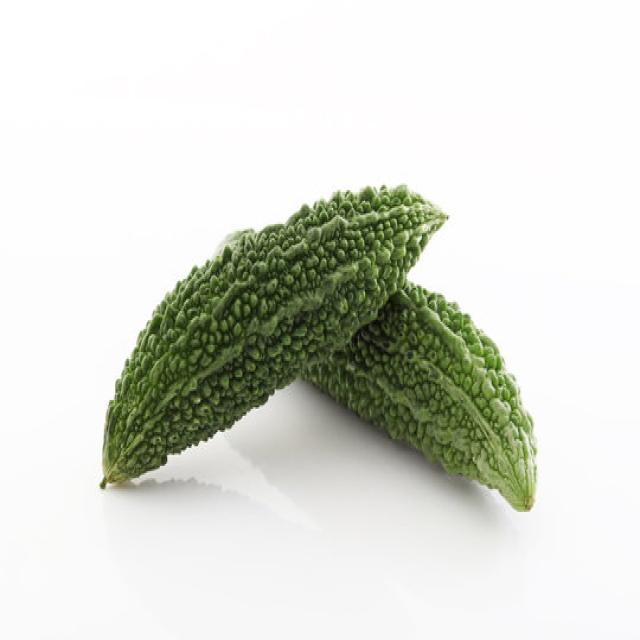Bitter_Gourd: (98, 181, 537, 512)
